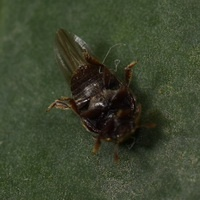insect: (47, 29, 140, 162)
